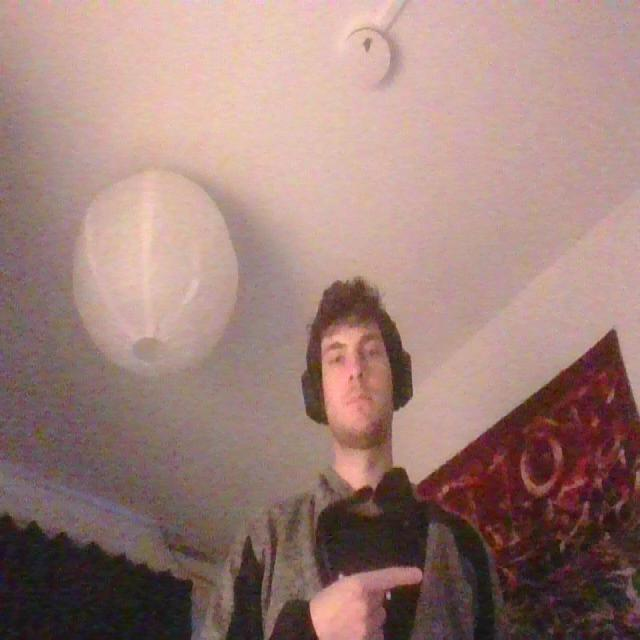right: (310, 556, 427, 639)
